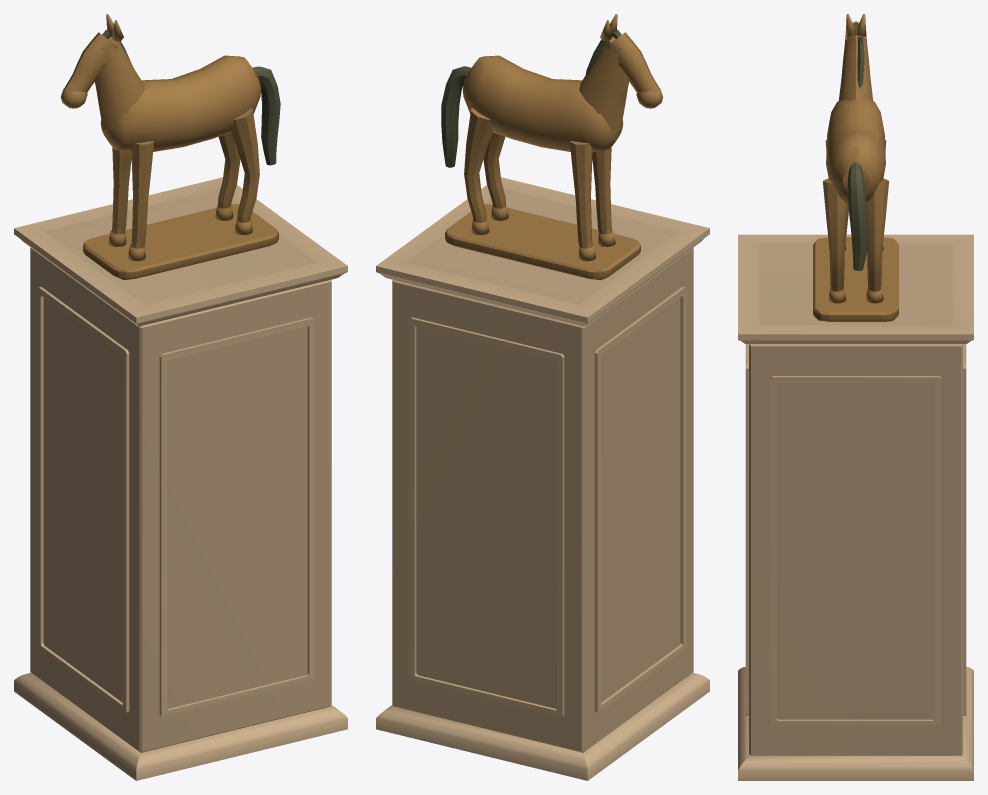
The model's file is statueHorse.glb.
The picture shows the model from 3 angles, left to right: view 1: azimuth 30°, elevation 25°; view 2: azimuth 150°, elevation 25°; view 3: azimuth 270°, elevation 25°; orthographic projection. The views are drawn at different scales.
Parts seen in each view (by area): view 1: statueHorse; view 2: statueHorse; view 3: statueHorse.
Boxes of the visible parts, x1=… form: statueHorse: x1=14, y1=14, x2=347, y2=780; statueHorse: x1=376, y1=14, x2=709, y2=780; statueHorse: x1=738, y1=14, x2=973, y2=780.
Size of the model in its own units: 0.4661 by 1.41 by 0.44.
